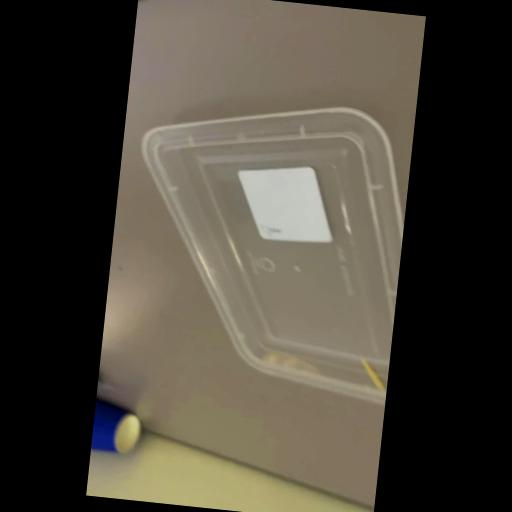rigid_plastic_container: (122, 95, 414, 401)
